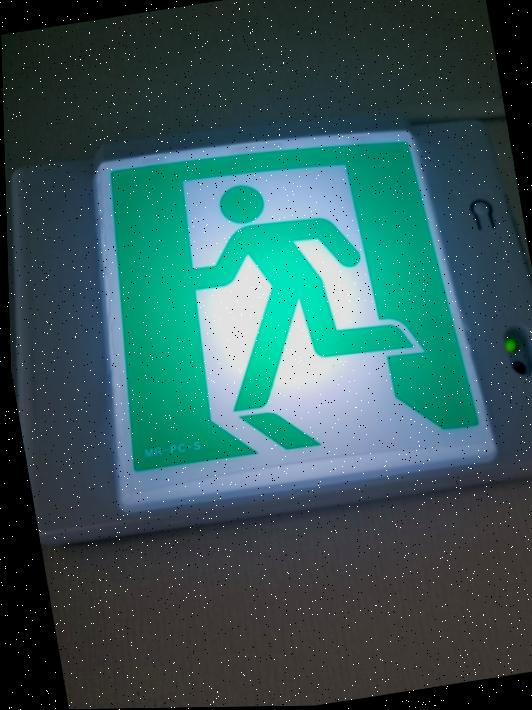emergency_exit: (3, 2, 530, 706), (91, 127, 497, 517)
